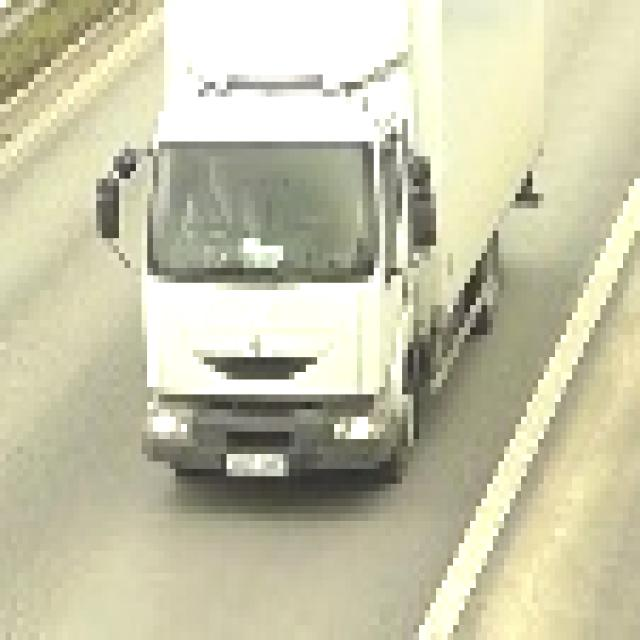truck: (92, 1, 545, 492)
